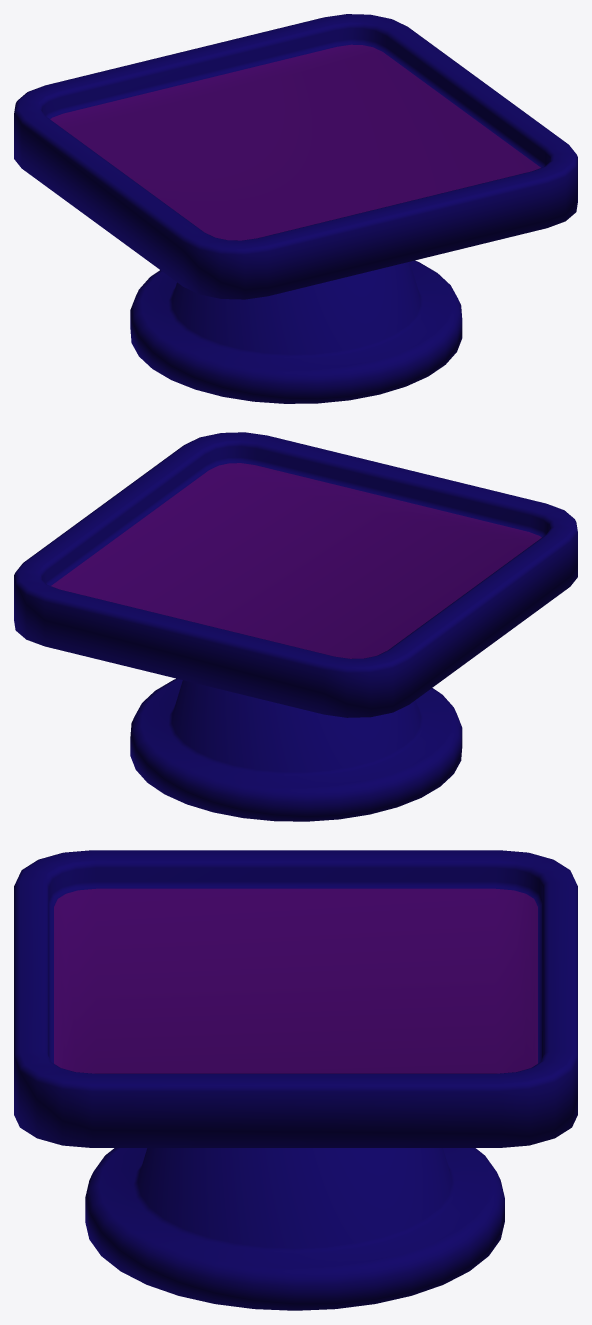
Rendered from card-table.fbx.
3 views of the same model, one above another, from view 1: azimuth 30°, elevation 25°; view 2: azimuth 150°, elevation 25°; view 3: azimuth 270°, elevation 25° (orthographic). The views are drawn at different scales.
Parts seen in each view (by area): view 1: table-base; view 2: table-base; view 3: table-base.
Boxes of the visible parts, x1,y1,x2,y2 form: table-base: [14, 14, 577, 403]; table-base: [14, 432, 577, 821]; table-base: [14, 850, 577, 1310].
Size of the model in its own units: 200 by 99.84 by 200.
